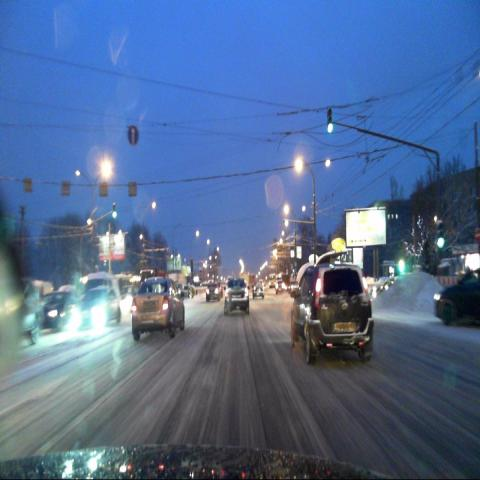4_1_1: (127, 124, 138, 145)
